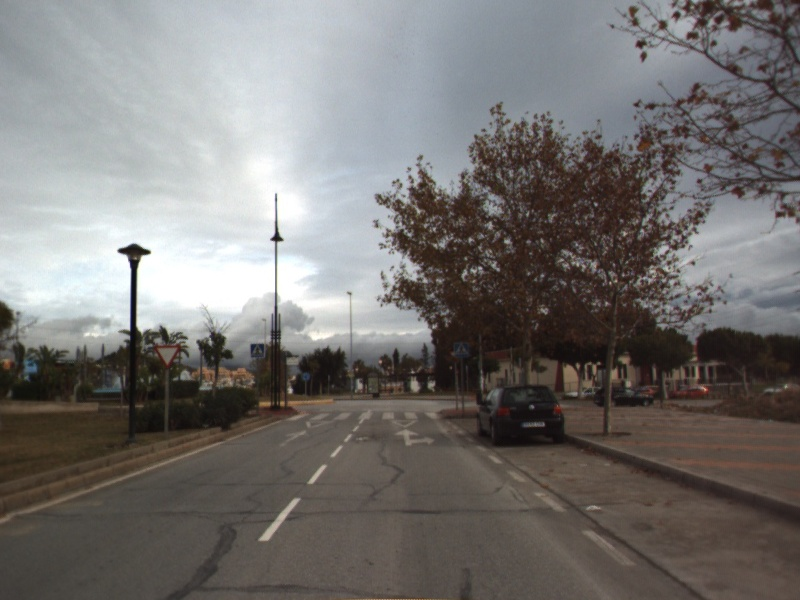STRAIGHT: (276, 428, 311, 449)
STRAIGHT_RIGHT: (392, 427, 437, 448)
